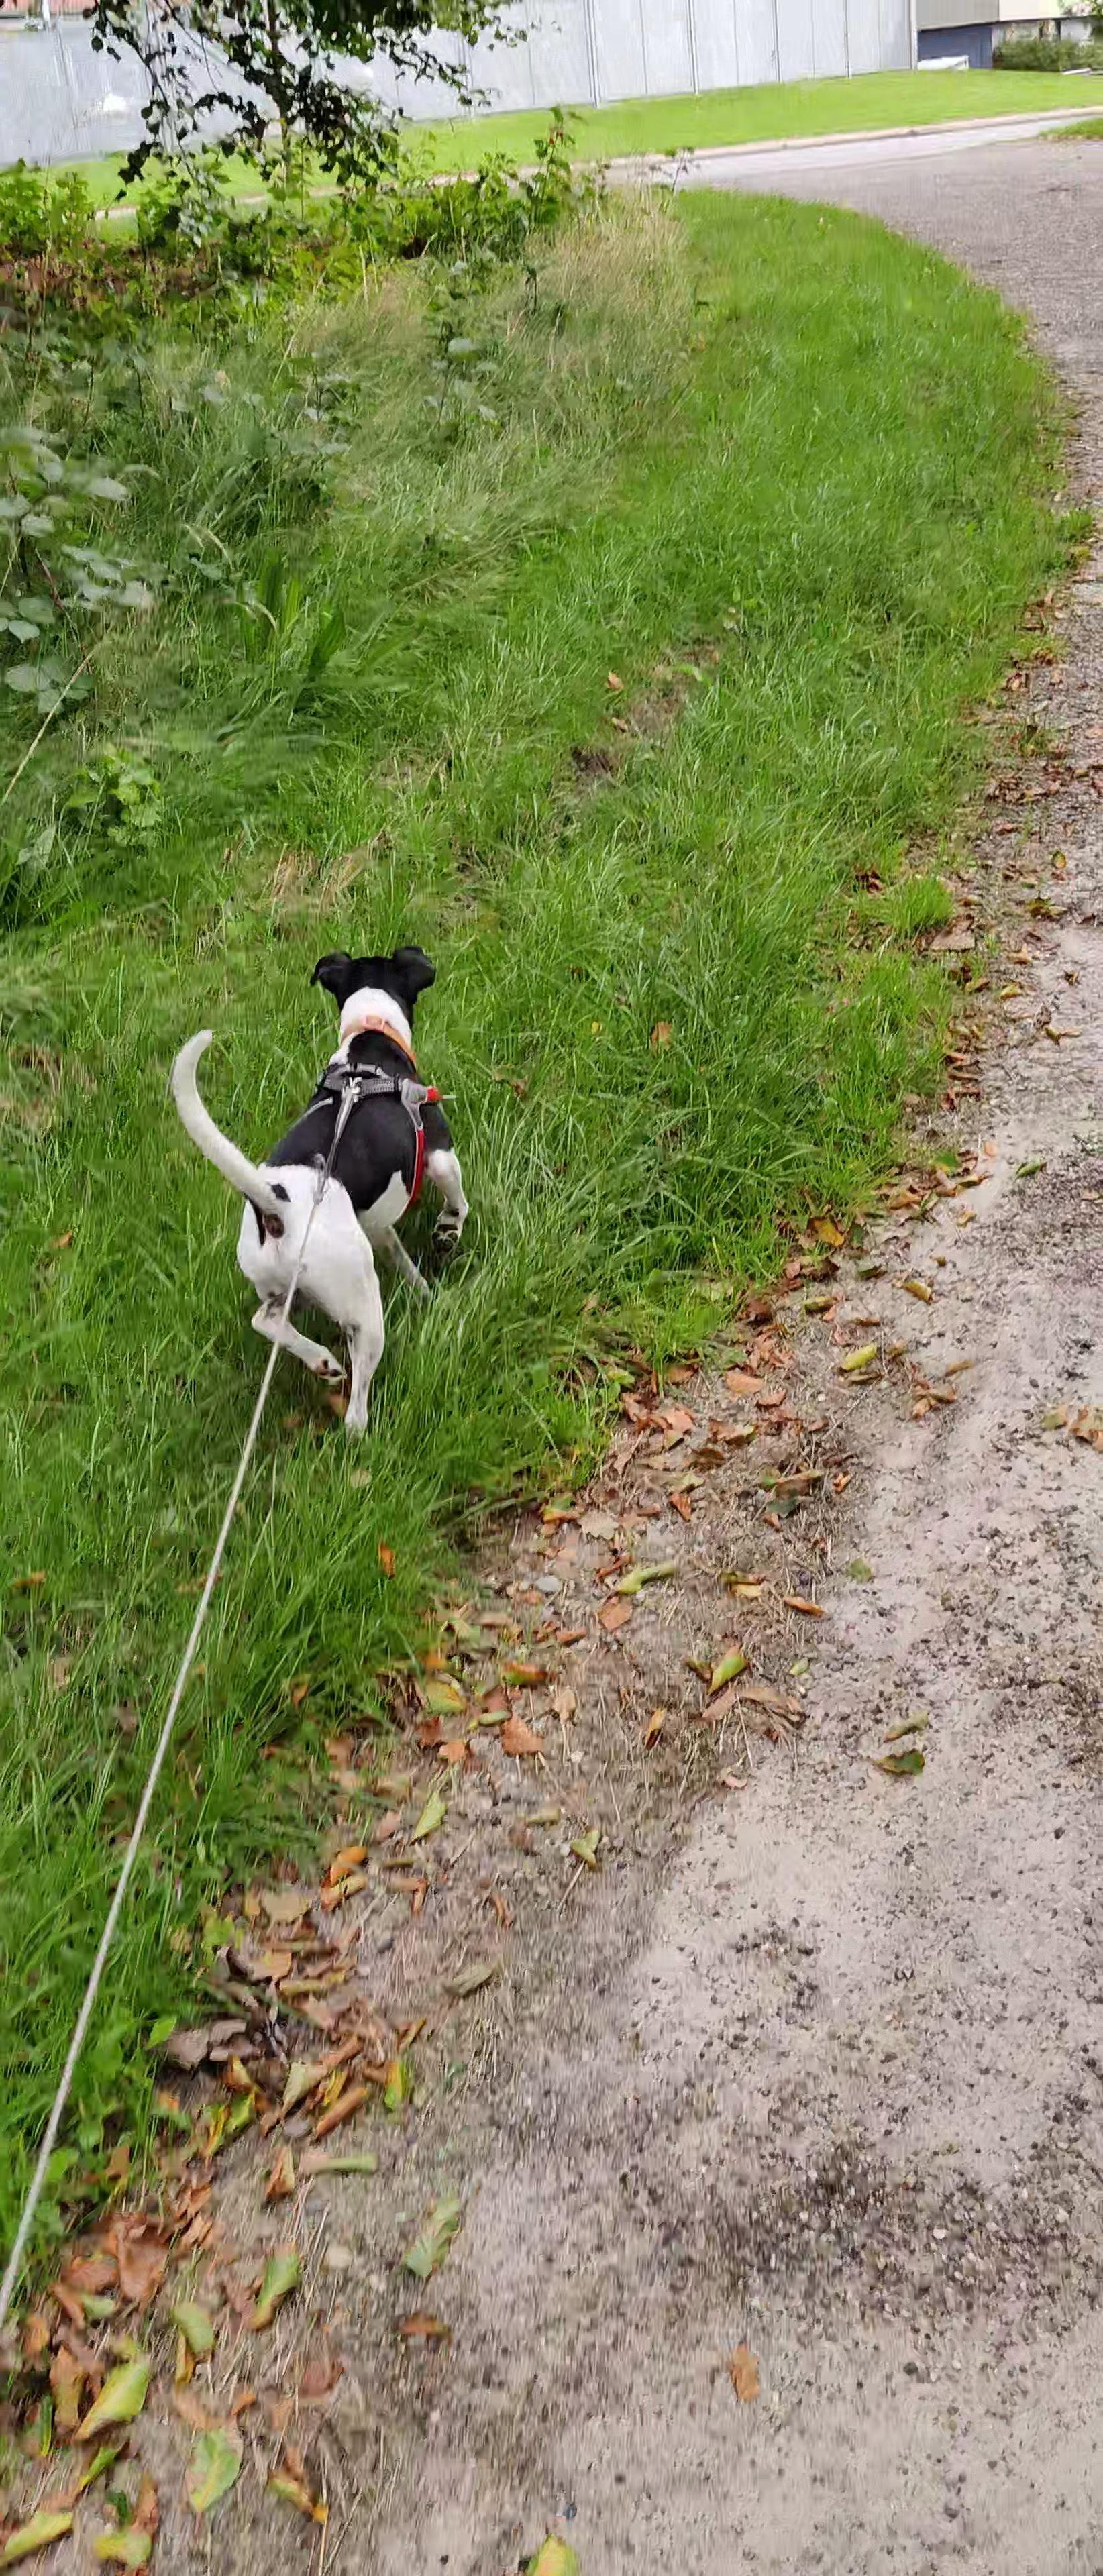Dog: (155, 936, 483, 1446)
